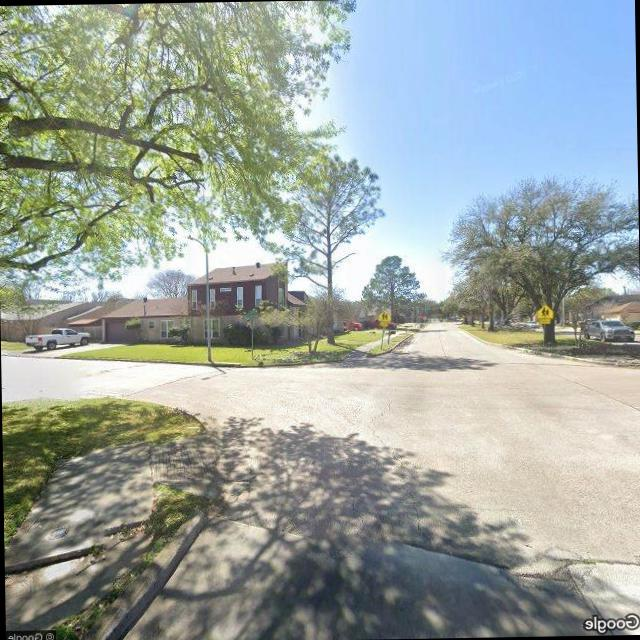pothole: (364, 404, 434, 542)
